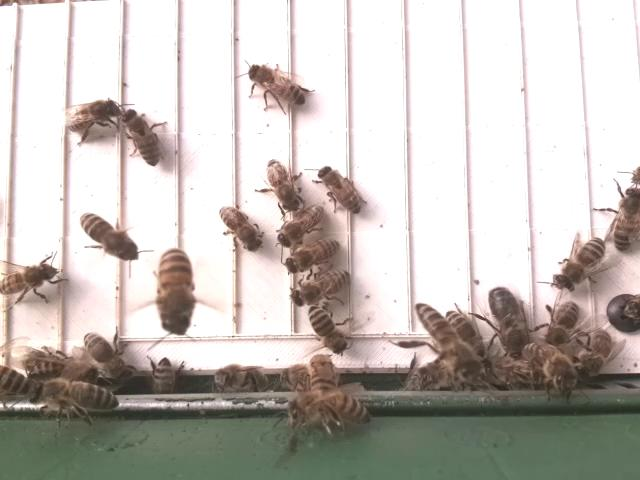Drone: (486, 283, 532, 361)
Worker: (412, 301, 469, 379), (156, 247, 196, 337), (77, 209, 139, 263), (553, 235, 607, 295), (34, 379, 121, 415), (246, 62, 308, 110), (121, 106, 163, 169), (316, 163, 365, 215), (287, 269, 352, 308), (217, 202, 263, 255), (276, 202, 325, 249), (82, 329, 129, 378), (306, 303, 350, 355), (283, 236, 341, 275), (0, 260, 59, 298), (66, 97, 123, 134), (610, 185, 640, 255), (544, 298, 583, 351), (265, 155, 301, 212)
